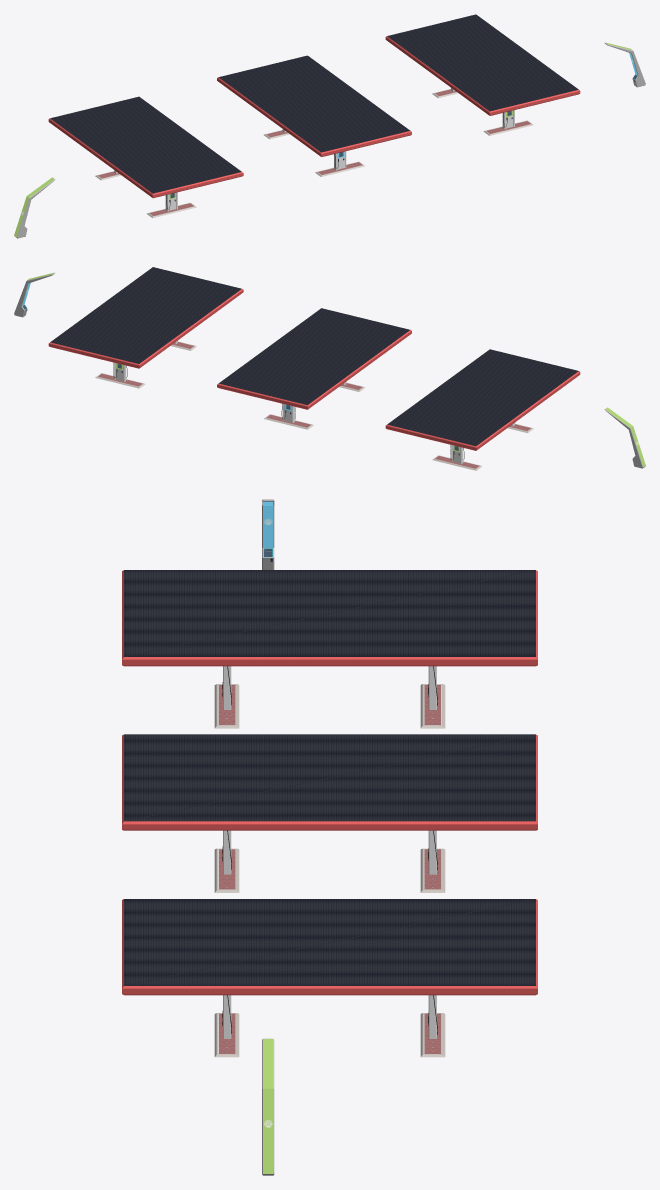
File: pierchargingstationvertical.glb
3 renders of one model, top to bottom at view 1: azimuth 30°, elevation 25°; view 2: azimuth 150°, elevation 25°; view 3: azimuth 270°, elevation 25°, orthographic. The views are drawn at different scales.
Parts seen in each view (by area): view 1: cityblockassetkit.014, cityblockassetkit, cityblockassetkit.007, cityblockassetkit.022, cityblockassetkit.003, cityblockassetkit.015, cityblockassetkit.008, cityblockassetkit.021; view 2: cityblockassetkit.014, cityblockassetkit, cityblockassetkit.007, cityblockassetkit.004, cityblockassetkit.018, cityblockassetkit.022, cityblockassetkit.011, cityblockassetkit.021; view 3: cityblockassetkit, cityblockassetkit.007, cityblockassetkit.014, cityblockassetkit.021, cityblockassetkit.015, cityblockassetkit.003, cityblockassetkit.018, cityblockassetkit.008, cityblockassetkit.004, cityblockassetkit.011.
Part boxes in pixels (box(x1,y1,x2,y2)): cityblockassetkit.014: box(48, 96, 243, 198); cityblockassetkit: box(385, 14, 580, 115); cityblockassetkit.007: box(217, 55, 411, 156); cityblockassetkit.022: box(14, 177, 55, 238); cityblockassetkit.003: box(483, 110, 533, 135); cityblockassetkit.015: box(147, 192, 196, 218); cityblockassetkit.008: box(315, 151, 364, 176); cityblockassetkit.021: box(605, 42, 645, 87); cityblockassetkit.014: box(385, 349, 580, 450); cityblockassetkit: box(48, 267, 243, 368); cityblockassetkit.007: box(217, 308, 411, 409); cityblockassetkit.004: box(95, 363, 145, 388); cityblockassetkit.018: box(432, 445, 482, 470); cityblockassetkit.022: box(604, 407, 645, 468); cityblockassetkit.011: box(264, 404, 313, 429); cityblockassetkit.021: box(14, 272, 54, 317); cityblockassetkit: box(122, 899, 537, 995); cityblockassetkit.007: box(122, 734, 537, 830); cityblockassetkit.014: box(122, 570, 537, 666); cityblockassetkit.021: box(262, 1038, 274, 1175); cityblockassetkit.015: box(214, 666, 239, 728); cityblockassetkit.003: box(214, 995, 239, 1057); cityblockassetkit.018: box(420, 666, 445, 728); cityblockassetkit.008: box(214, 830, 239, 892); cityblockassetkit.004: box(420, 995, 445, 1057); cityblockassetkit.011: box(420, 830, 445, 892).
Size of the model in its own units: 70.61 by 5.47 by 20.2.
16 materials, 10 textured.
